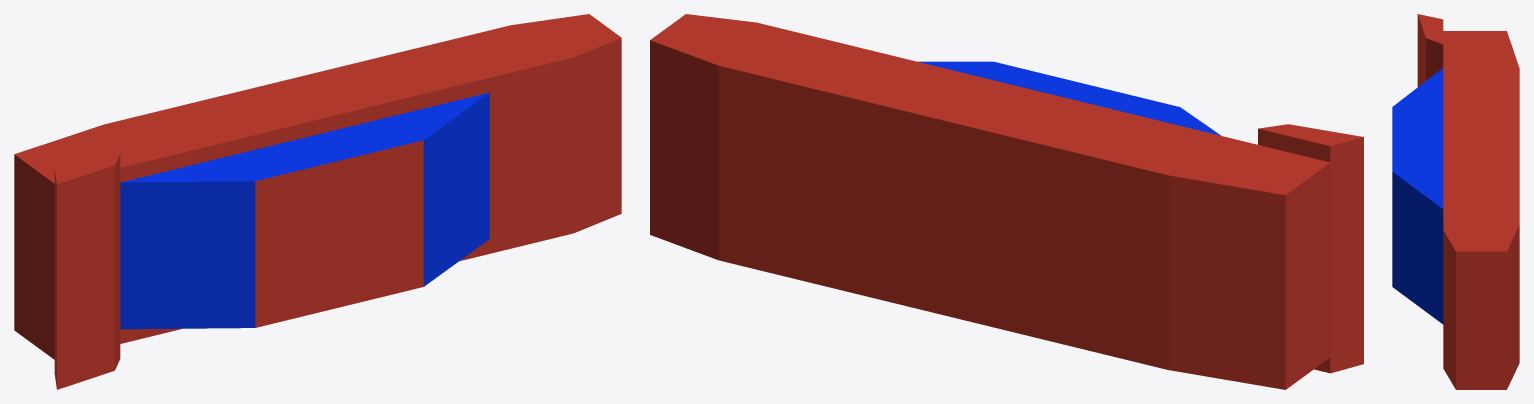
File: coche.obj
3 views of the same model, side by side, from view 1: azimuth 30°, elevation 25°; view 2: azimuth 150°, elevation 25°; view 3: azimuth 270°, elevation 25° (orthographic). The views are drawn at different scales.
Parts seen in each view (by area): view 1: coche; view 2: coche; view 3: coche.
Part boxes in pixels (x1,y1,x2,y2): coche: [14, 14, 621, 389]; coche: [650, 14, 1363, 389]; coche: [1392, 14, 1519, 389].
Size of the model in its own units: 21 by 7 by 5.
